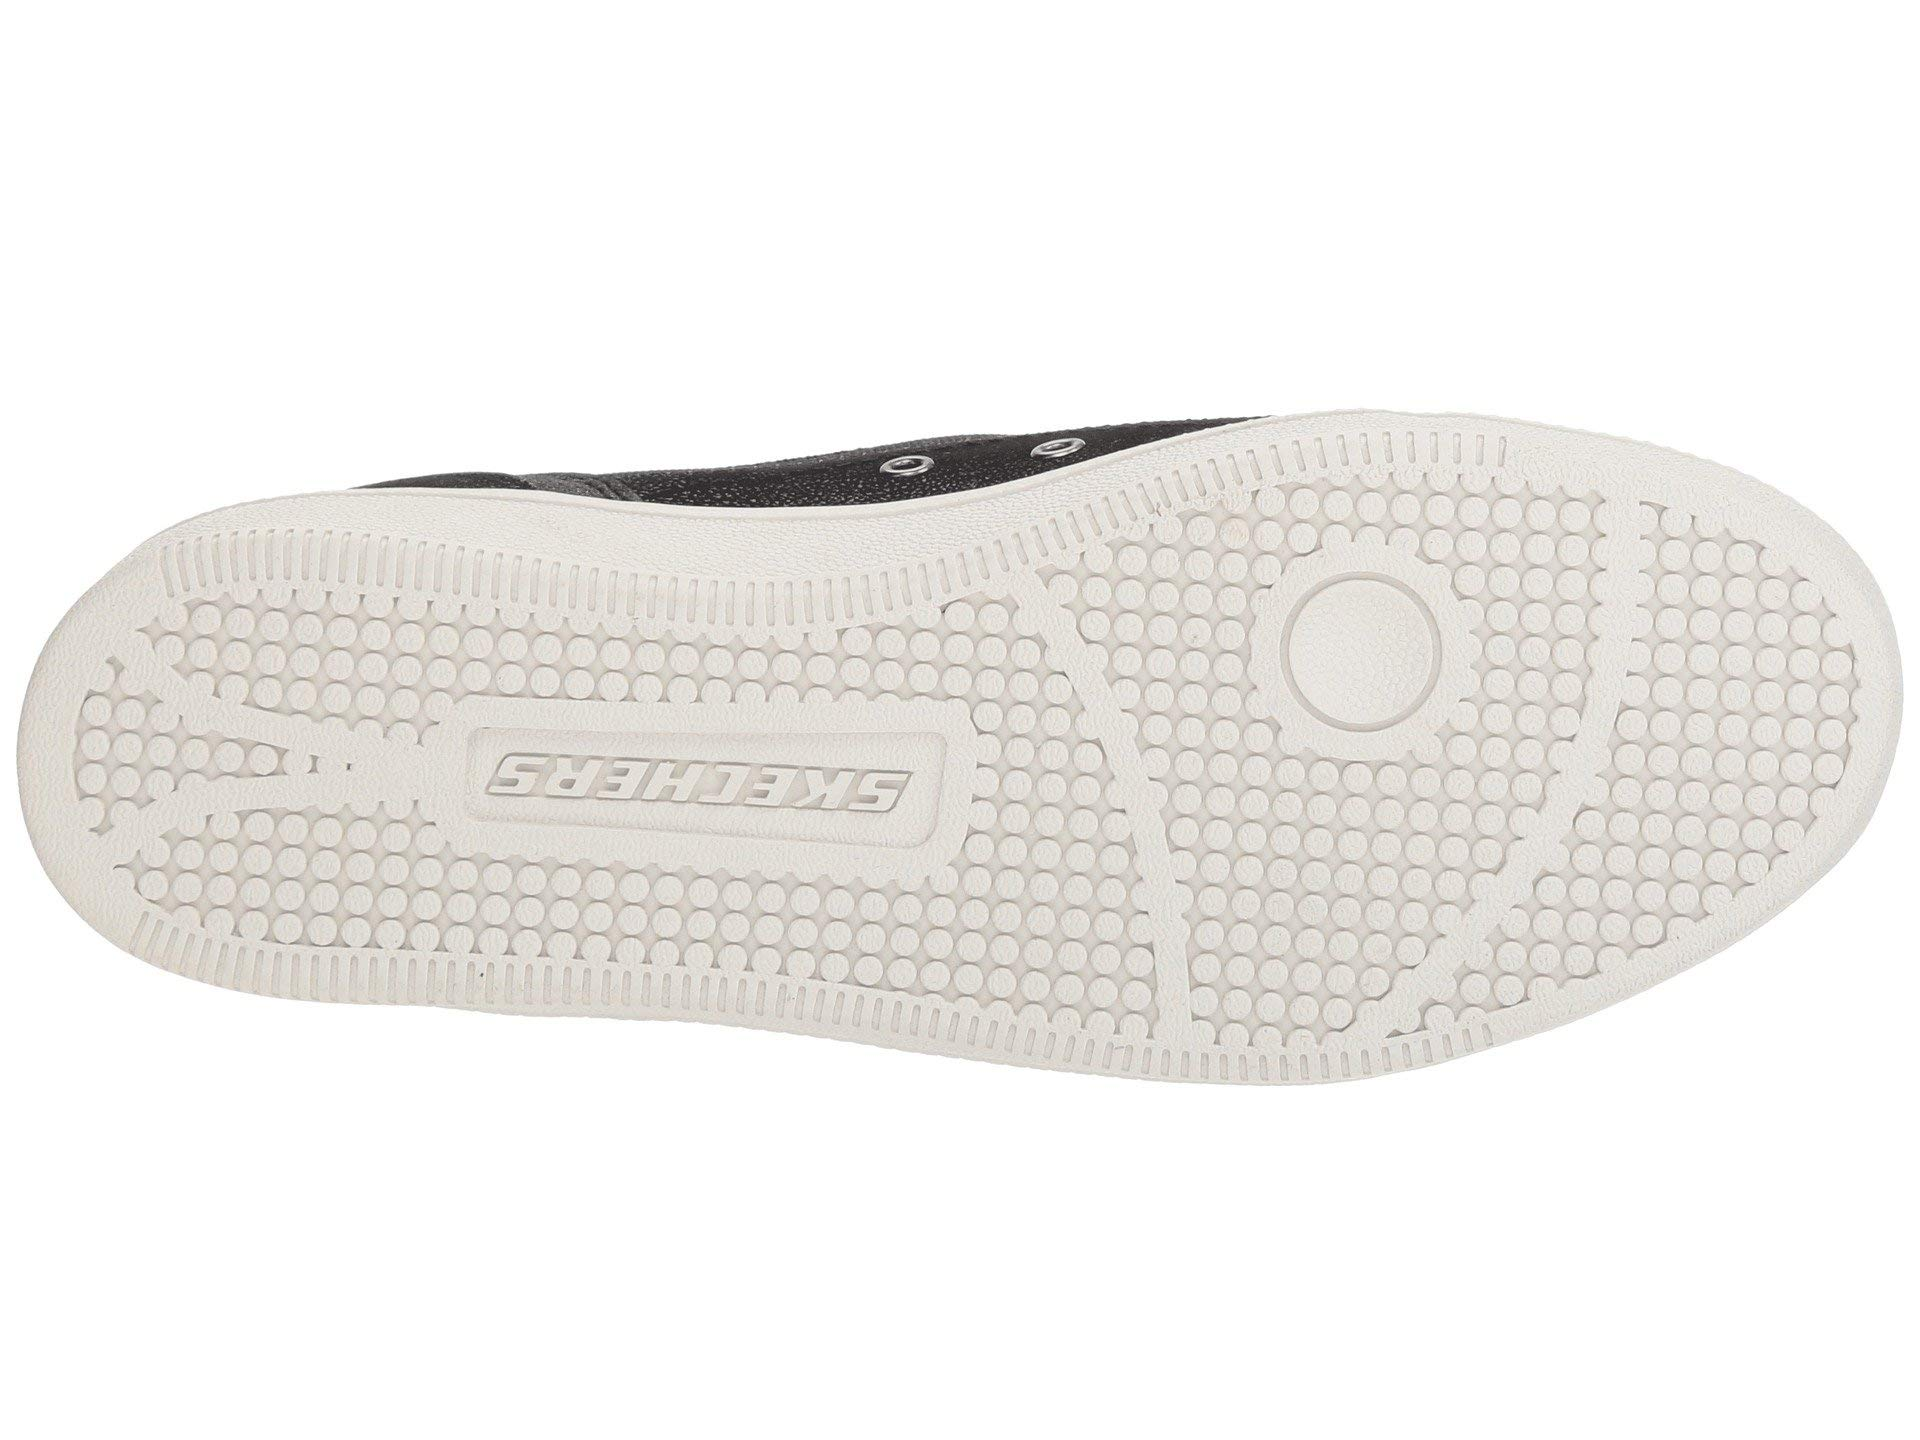circle: (1194, 492, 1534, 830), (1649, 588, 1857, 793), (1194, 844, 1377, 1027), (958, 836, 1126, 1000), (252, 576, 393, 732), (272, 809, 416, 950), (1569, 808, 1690, 930)
